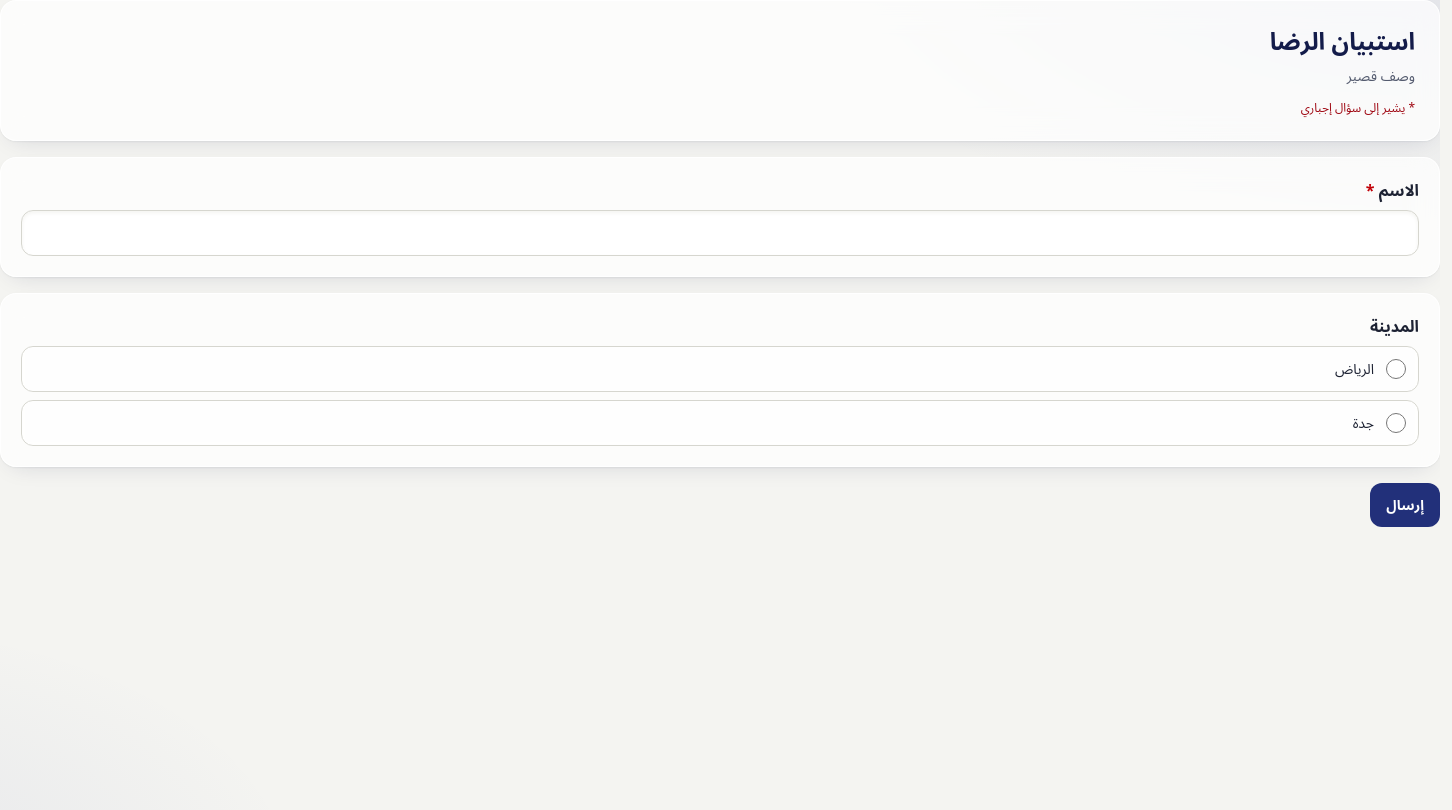
Test: keeps answers on network failure and retries with the same idempotency key
Type "سارة" into the field labelled "الاسم *". click: coordinates (720, 233)
box: [21,210,1419,256]
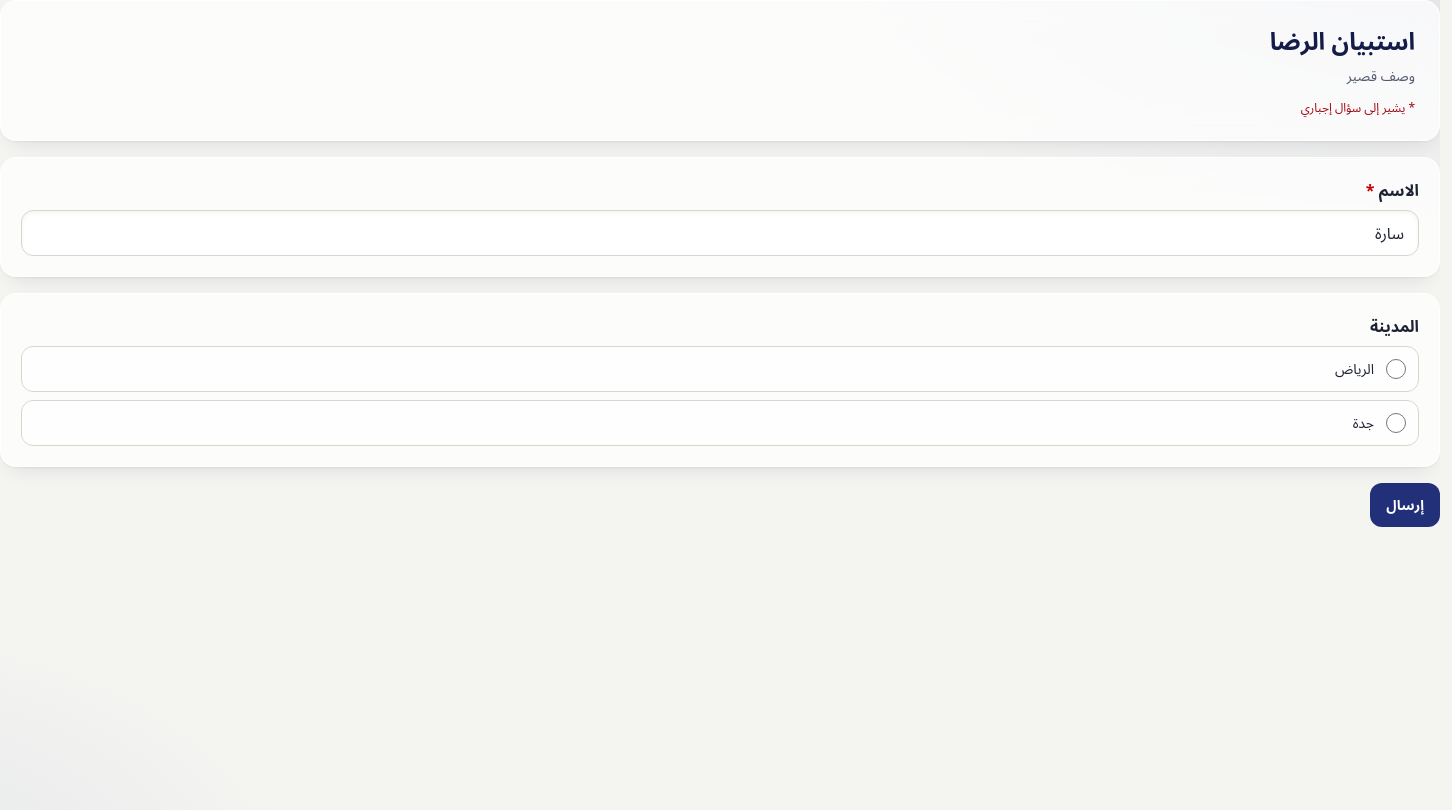
Click the button "إرسال". click: coordinates (1405, 505)
box: [1370,483,1440,527]
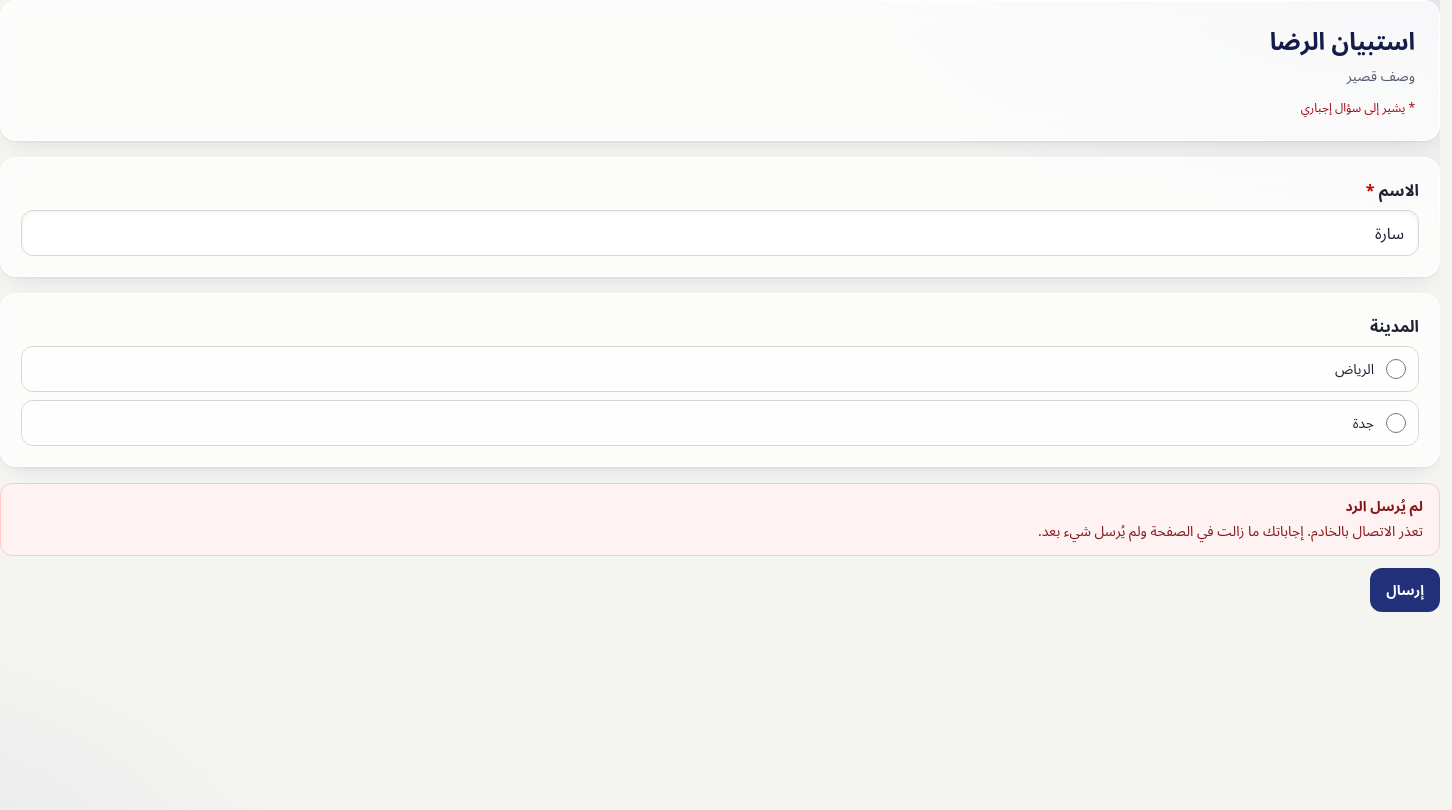
Expected: the text "إجاباتك ما زالت في الصفحة" is shown, [1038,521,1423,540]
Click the button "إرسال". click: coordinates (1405, 590)
box: [1370,568,1440,612]
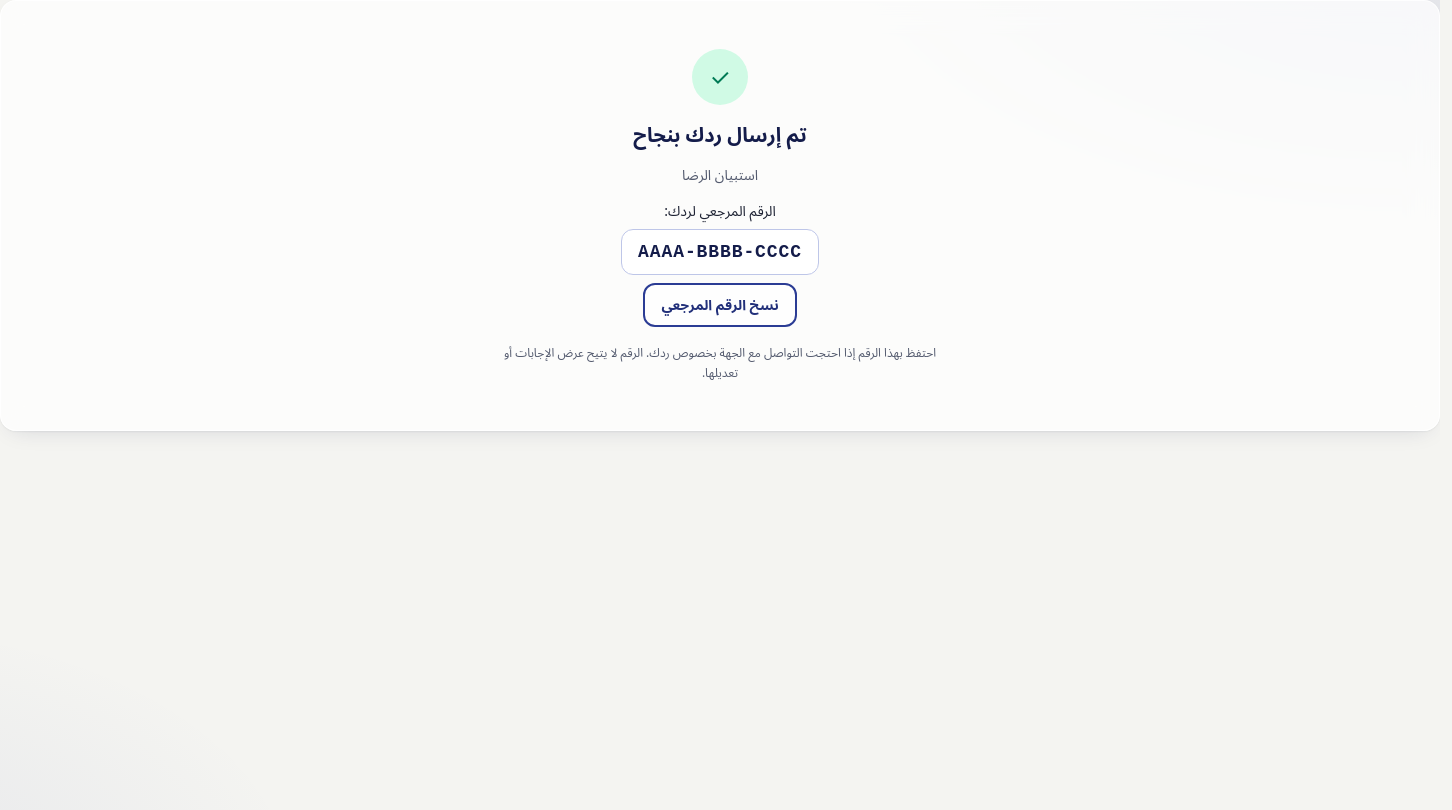
Expected: the text "AAAA-BBBB-CCCC" is shown, [621,229,819,275]
